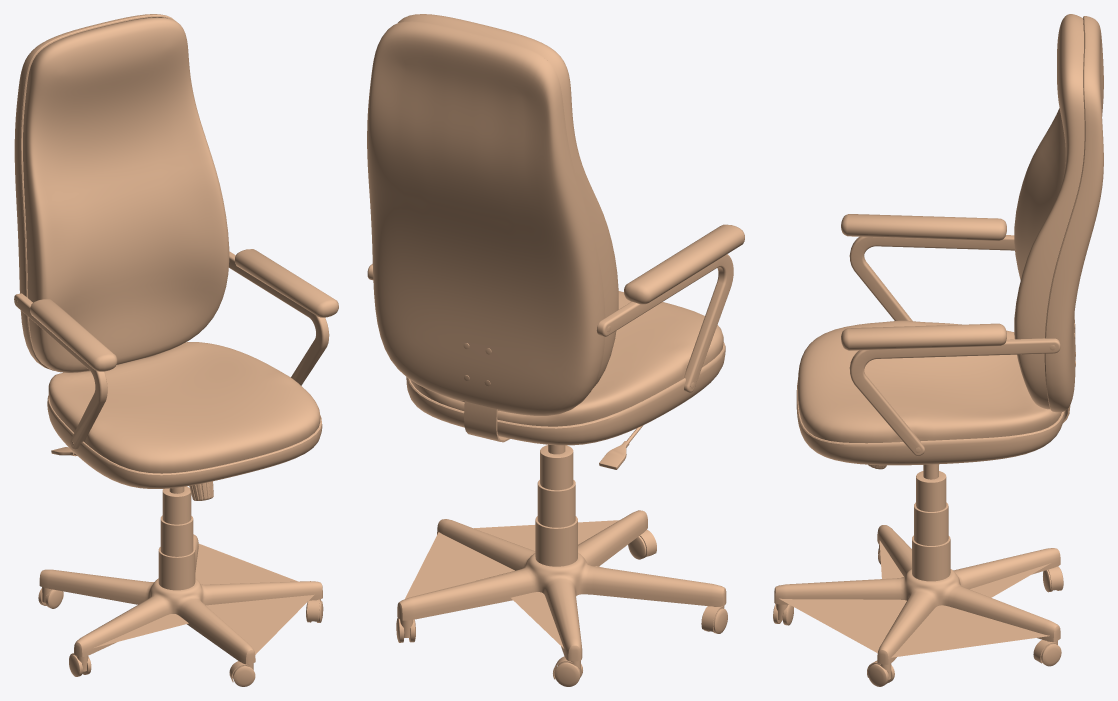
The model's file is Chair.fbx.
The picture shows the model from 3 angles, left to right: view 1: azimuth 30°, elevation 25°; view 2: azimuth 150°, elevation 25°; view 3: azimuth 270°, elevation 25°; orthographic projection. The views are drawn at different scales.
Visible parts, largest first — view 1: OfficeChair; view 2: OfficeChair; view 3: OfficeChair.
Boxes of the visible parts, x1=… form: OfficeChair: x1=14, y1=14, x2=338, y2=686; OfficeChair: x1=367, y1=14, x2=744, y2=686; OfficeChair: x1=773, y1=14, x2=1103, y2=686.
Size of the model in its own units: 63.73 by 137 by 69.81.
